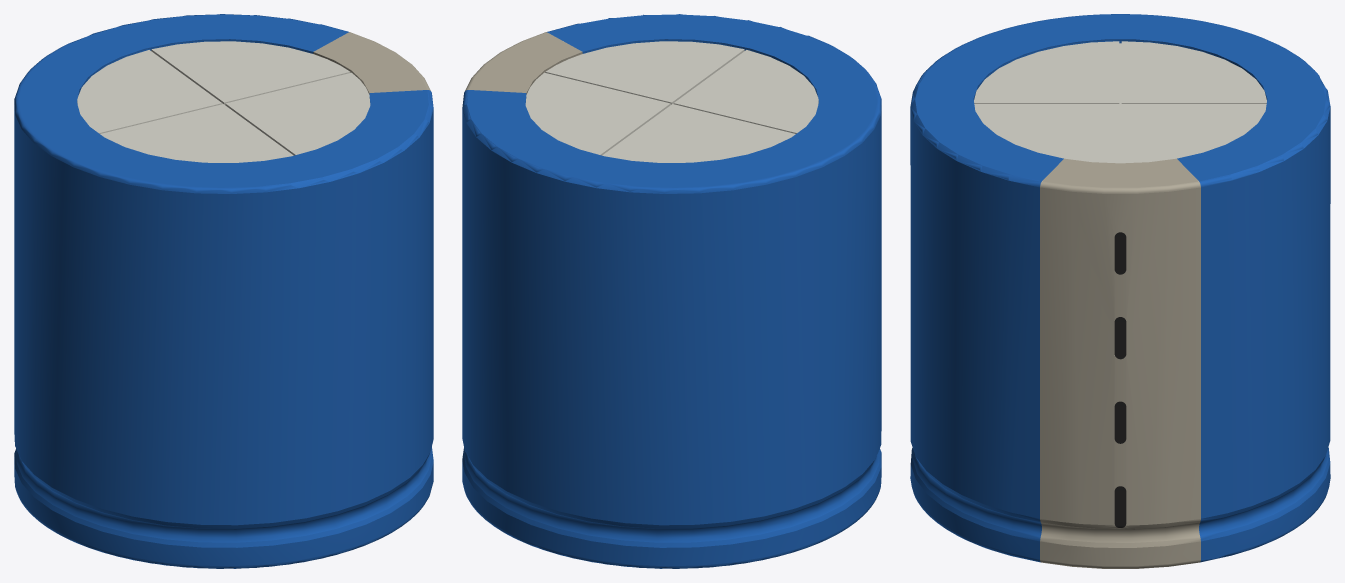
File: kc-cp_radial_d18.0mm_p7.50mm.glb
3 renders of one model, left to right at view 1: azimuth 30°, elevation 25°; view 2: azimuth 150°, elevation 25°; view 3: azimuth 270°, elevation 25°, orthographic.
Parts seen in each view (by area): view 1: 0_0.16666666666666666_0.5_0, 0.6666666666666666_0.6666666666666666_0.5833333333333334_0.8, 0.4166666666666667_0.4166666666666667_0.3333333333333333_0; view 2: 0_0.16666666666666666_0.5_0, 0.6666666666666666_0.6666666666666666_0.5833333333333334_0.8, 0.4166666666666667_0.4166666666666667_0.3333333333333333_0; view 3: 0_0.16666666666666666_0.5_0, 0.4166666666666667_0.4166666666666667_0.3333333333333333_0, 0.6666666666666666_0.6666666666666666_0.5833333333333334_0.8, 0_0_0_0.
Part boxes in pixels (bbox=[...]): 0_0.16666666666666666_0.5_0: bbox=[14, 14, 433, 568]; 0.6666666666666666_0.6666666666666666_0.5833333333333334_0.8: bbox=[77, 41, 370, 162]; 0.4166666666666667_0.4166666666666667_0.3333333333333333_0: bbox=[313, 32, 430, 94]; 0_0.16666666666666666_0.5_0: bbox=[462, 14, 881, 568]; 0.6666666666666666_0.6666666666666666_0.5833333333333334_0.8: bbox=[525, 41, 818, 162]; 0.4166666666666667_0.4166666666666667_0.3333333333333333_0: bbox=[465, 32, 582, 94]; 0_0.16666666666666666_0.5_0: bbox=[910, 14, 1330, 562]; 0.4166666666666667_0.4166666666666667_0.3333333333333333_0: bbox=[1040, 158, 1200, 568]; 0.6666666666666666_0.6666666666666666_0.5833333333333334_0.8: bbox=[974, 41, 1266, 163]; 0_0_0_0: bbox=[1114, 232, 1126, 527].
Bounding box in the file's own units: 1.8 × 2 × 1.8.
